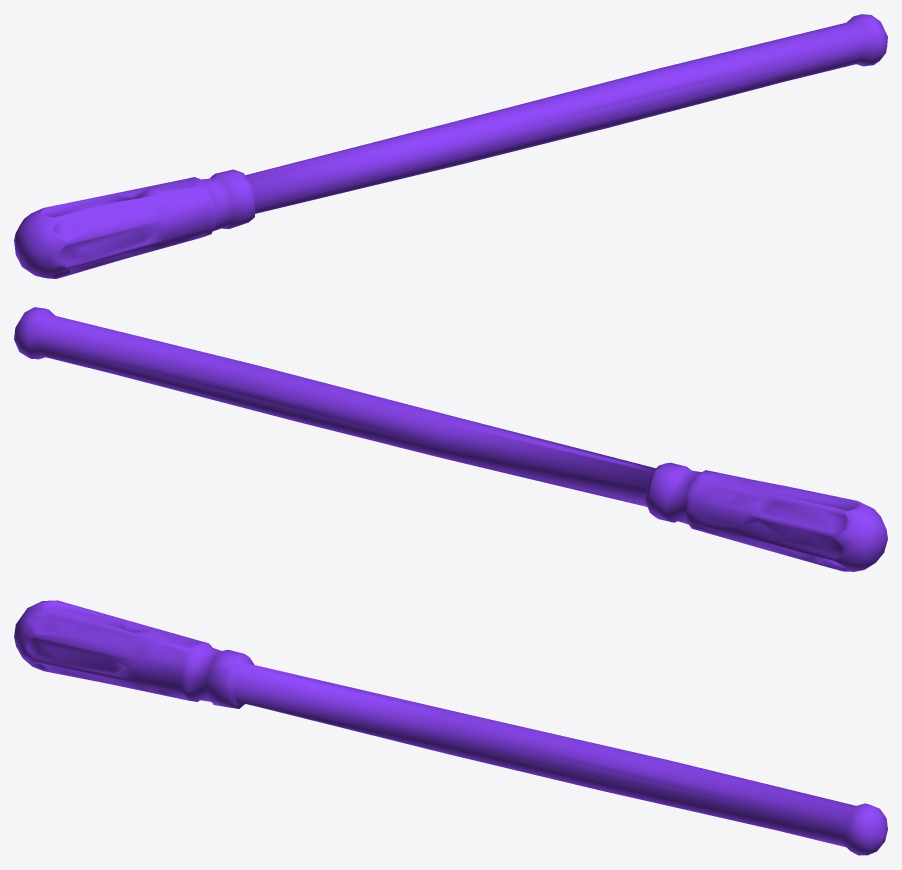
File: saracen_mace_v2.fbx
3 renders of one model, top to bottom at view 1: azimuth 30°, elevation 25°; view 2: azimuth 150°, elevation 25°; view 3: azimuth 330°, elevation 25°, orthographic.
Parts seen in each view (by area): view 1: saracen_mace_v2; view 2: saracen_mace_v2; view 3: saracen_mace_v2.
Boxes of the visible parts, x1,y1,x2,y2 form: saracen_mace_v2: (14, 14, 887, 278); saracen_mace_v2: (14, 307, 887, 571); saracen_mace_v2: (14, 600, 887, 855).
Bounding box in the file's own units: 54.89 × 3.8 × 3.84.
